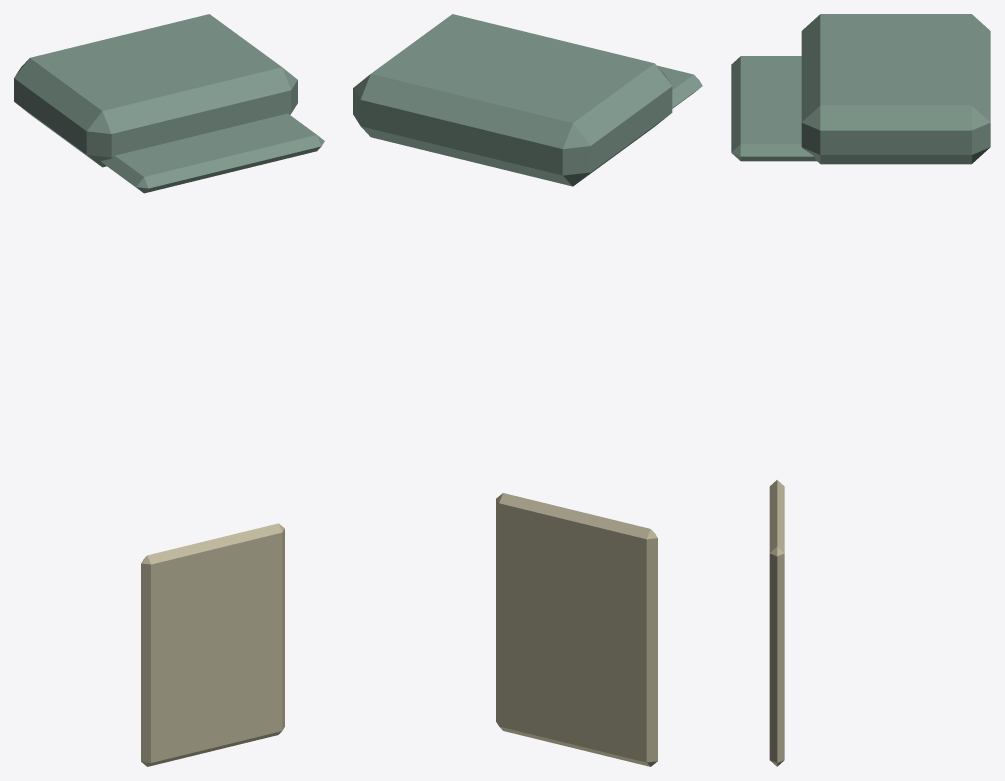
Rendered from caretaker-kit.glb.
3 views of the same model, side by side, from view 1: azimuth 30°, elevation 25°; view 2: azimuth 150°, elevation 25°; view 3: azimuth 270°, elevation 25° (orthographic). The views are drawn at different scales.
Visible parts, largest first — view 1: CaretakerUniform; view 2: CaretakerUniform; view 3: CaretakerUniform.
Part boxes in pixels (x1,y1,x2,y2): CaretakerUniform: (14,14,324,766); CaretakerUniform: (353,14,702,766); CaretakerUniform: (731,14,990,766).
Size of the model in its own units: 0.47 by 1.37 by 0.48.
